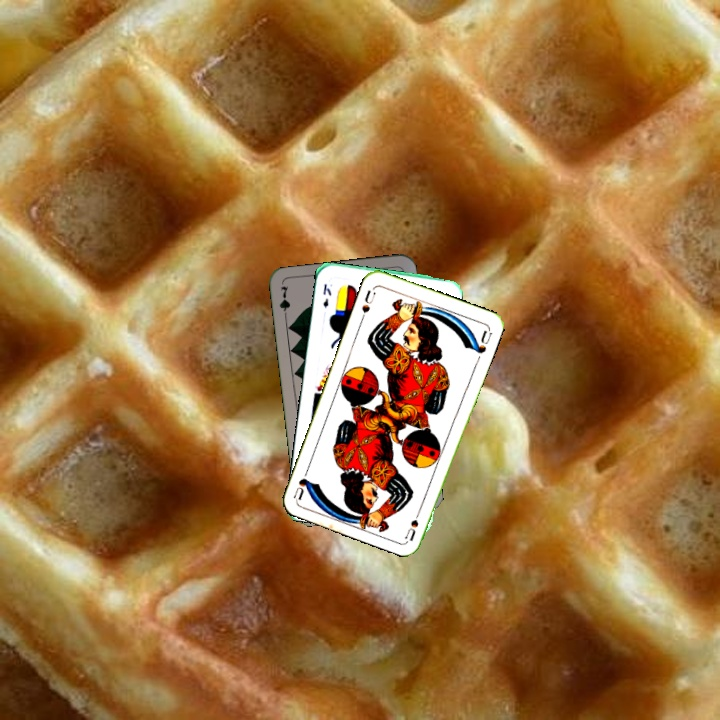EK: (319, 280, 334, 311)
G7: (275, 282, 292, 323)
SU: (401, 502, 425, 542), (357, 284, 378, 323)
